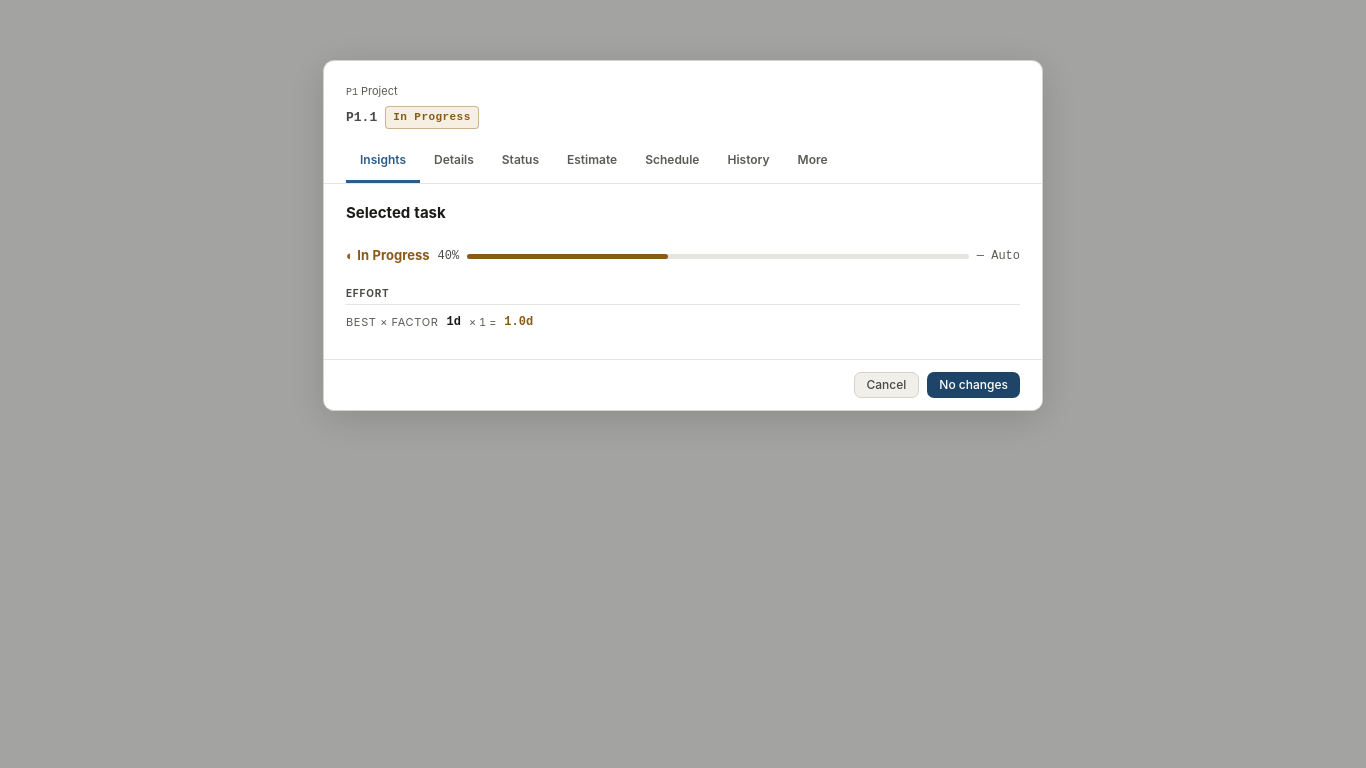
Scenario: NodeModal item history › shows an item-scoped, read-only history timeline in the item dialog
Click the tab "History". click: (749,162)
box: [714,140,784,182]
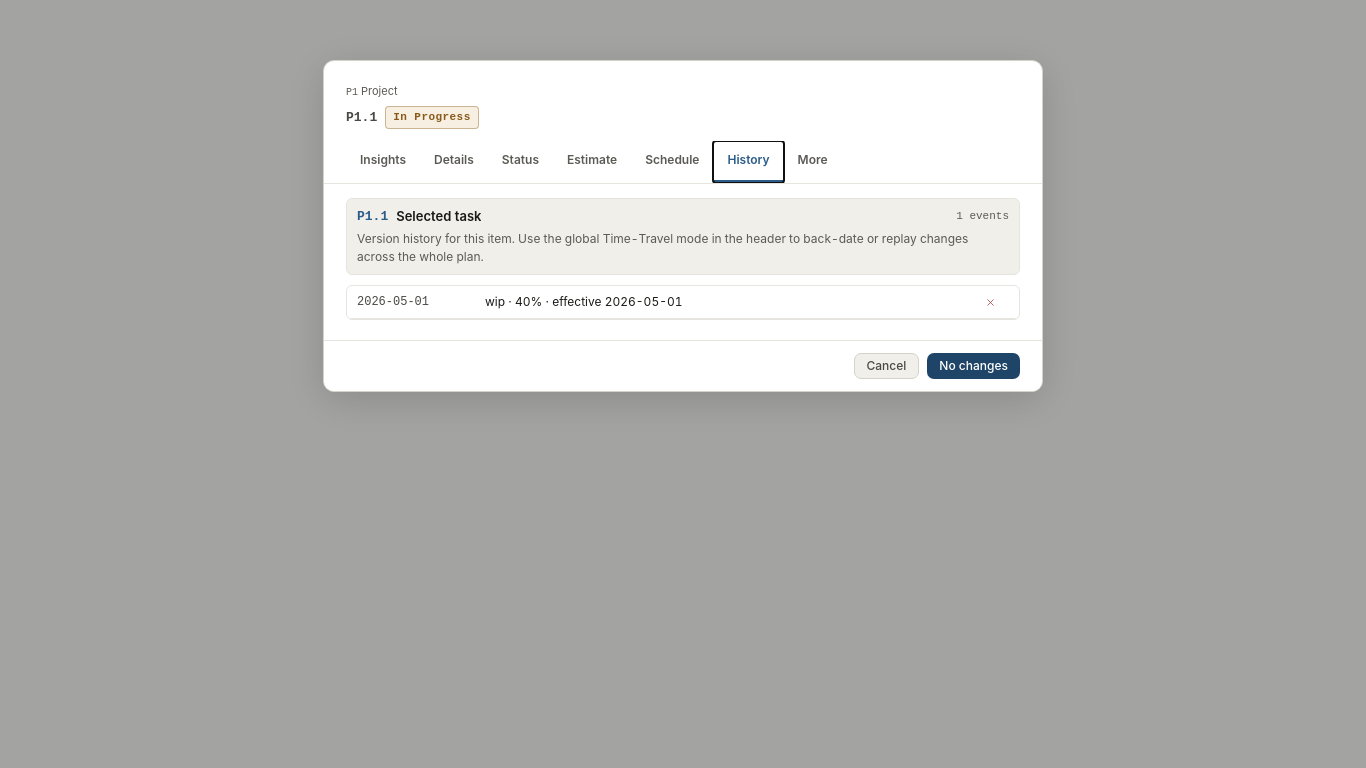
Now the element with test id "item-history" is shown, box [346,198,1020,320]
Now the element with test id "item-history" shows "Version history for this item", box [357,231,968,264]
Now the element with test id "item-history" shows "40%", box [485,294,682,309]
